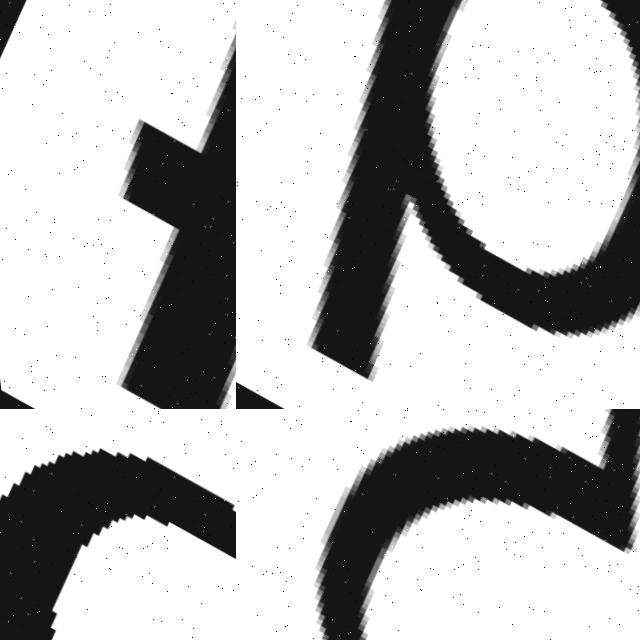5: (236, 409, 640, 640), (0, 409, 236, 640)
Q: (236, 0, 640, 409)
